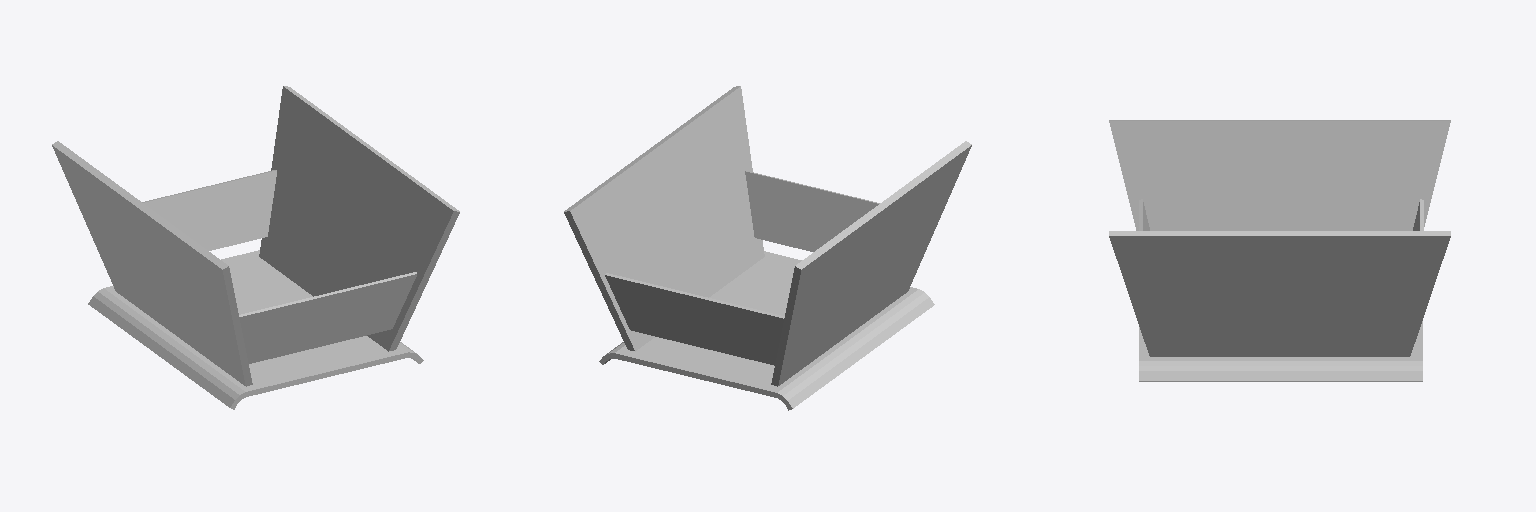
The model's file is SM_Fichero_Escritorio.obj.
3 views of the same model, side by side, from view 1: azimuth 30°, elevation 25°; view 2: azimuth 150°, elevation 25°; view 3: azimuth 270°, elevation 25° (orthographic).
Visible parts, largest first — view 1: Fichero_Escritorio; view 2: Fichero_Escritorio; view 3: Fichero_Escritorio.
Boxes of the visible parts, x1=… form: Fichero_Escritorio: x1=52, y1=86, x2=459, y2=409; Fichero_Escritorio: x1=564, y1=86, x2=971, y2=410; Fichero_Escritorio: x1=1109, y1=120, x2=1450, y2=381.
Bounding box in the file's own units: 2.25 × 1.44 × 2.8.